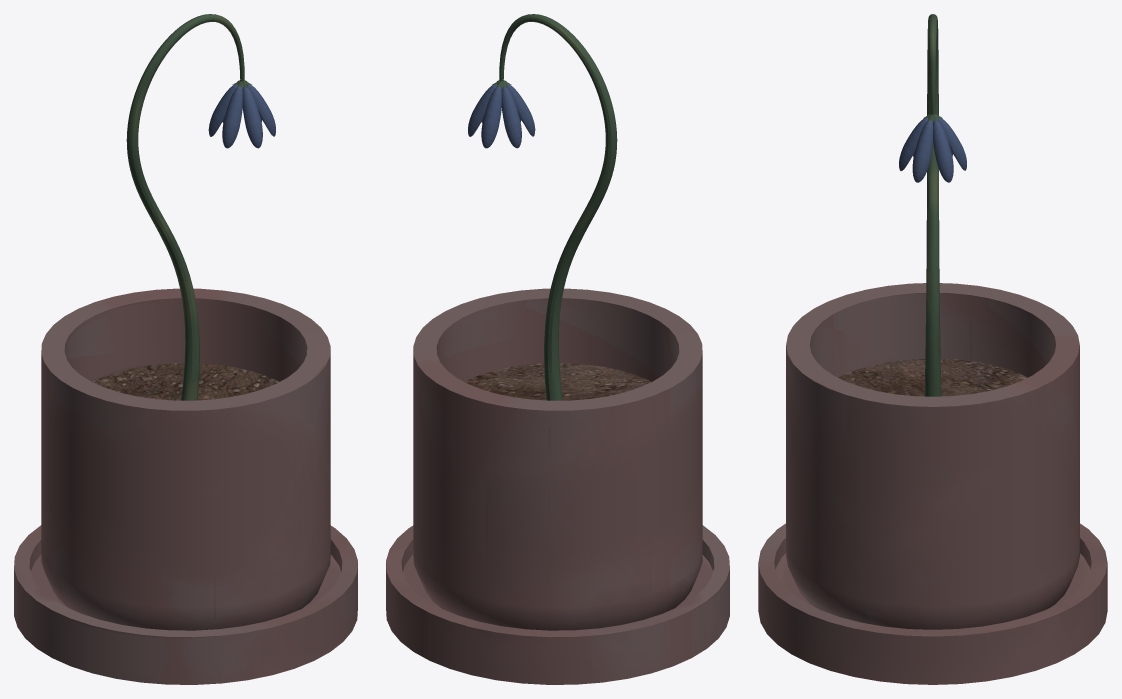
The model's file is flowerpot.glb.
3 views of the same model, side by side, from view 1: azimuth 30°, elevation 25°; view 2: azimuth 150°, elevation 25°; view 3: azimuth 270°, elevation 25° (orthographic).
Visible parts, largest first — view 1: Cylinder, Sphere; view 2: Cylinder, Sphere; view 3: Cylinder, Sphere.
Boxes of the visible parts, bbox=[...] form: Cylinder: bbox=[14, 14, 357, 684]; Sphere: bbox=[208, 84, 275, 148]; Cylinder: bbox=[386, 14, 729, 684]; Sphere: bbox=[468, 84, 535, 148]; Cylinder: bbox=[758, 14, 1107, 684]; Sphere: bbox=[899, 117, 966, 182].
Size of the model in its own units: 2.38 by 4.51 by 2.38.
Materials: 4 (3 with a texture image).
